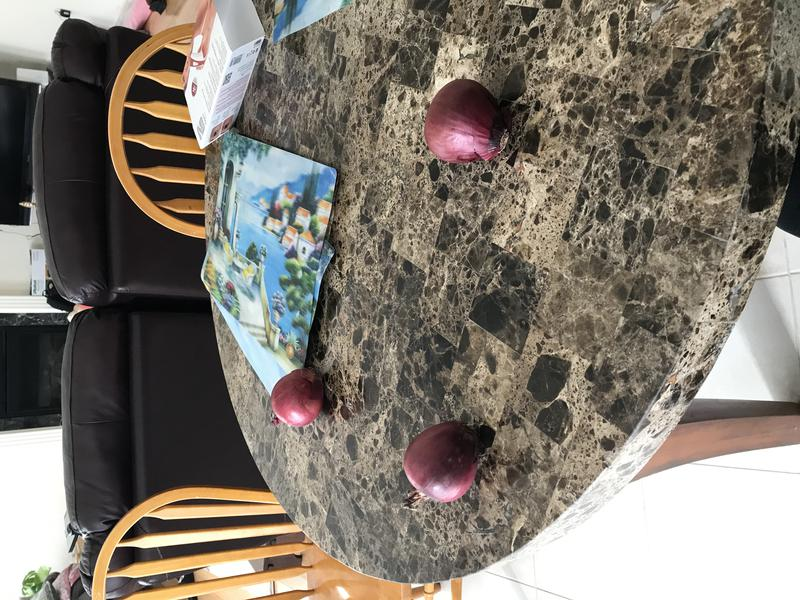purple_onion: (418, 77, 520, 171), (396, 419, 493, 511), (264, 368, 329, 433)
